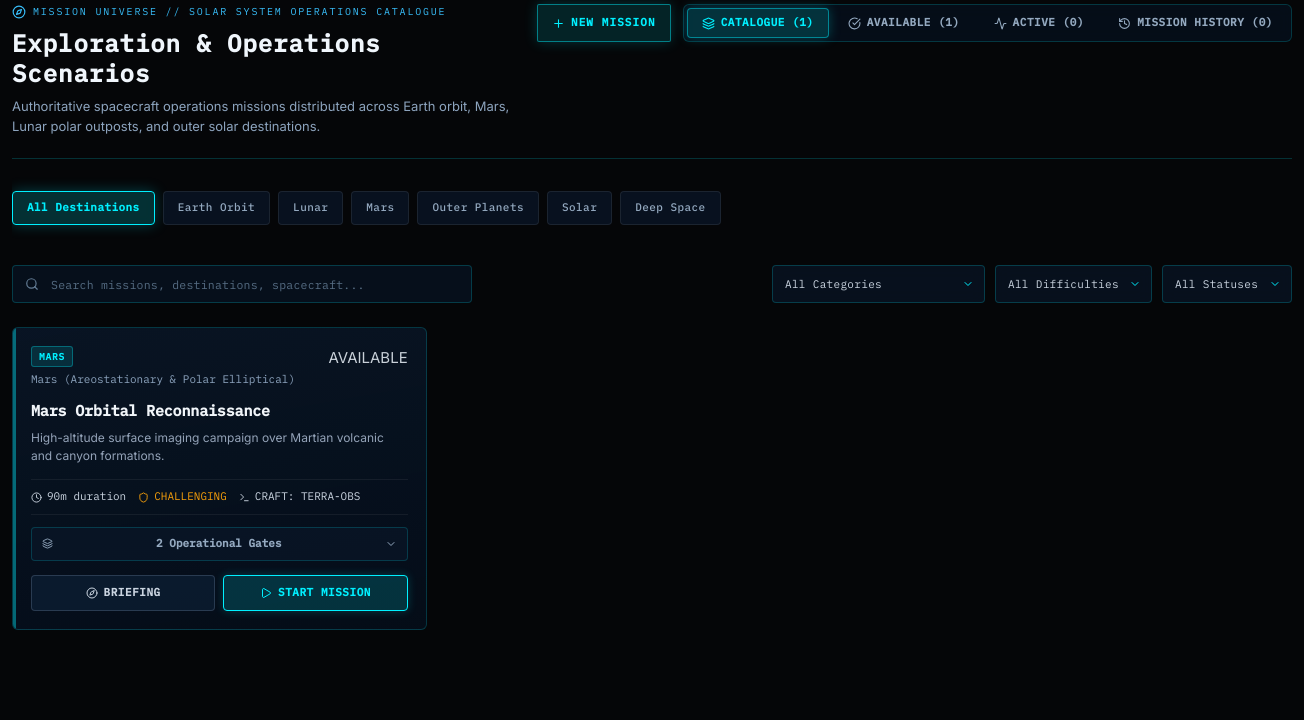
ASTRA Mission Control Operations Console › makes mission cards visibly interactive with expandable operational gates and action buttons
Check: the element with test id "mission-card-MARS-RECON-01" is shown, box top-left (12, 327), bottom-right (427, 630)
Check: the button with test id "card-briefing-btn-MARS-RECON-01" is shown, box top-left (31, 574), bottom-right (215, 610)
Click the button with test id "gates-toggle-MARS-RECON-01" at (219, 544), box top-left (31, 527), bottom-right (408, 560)
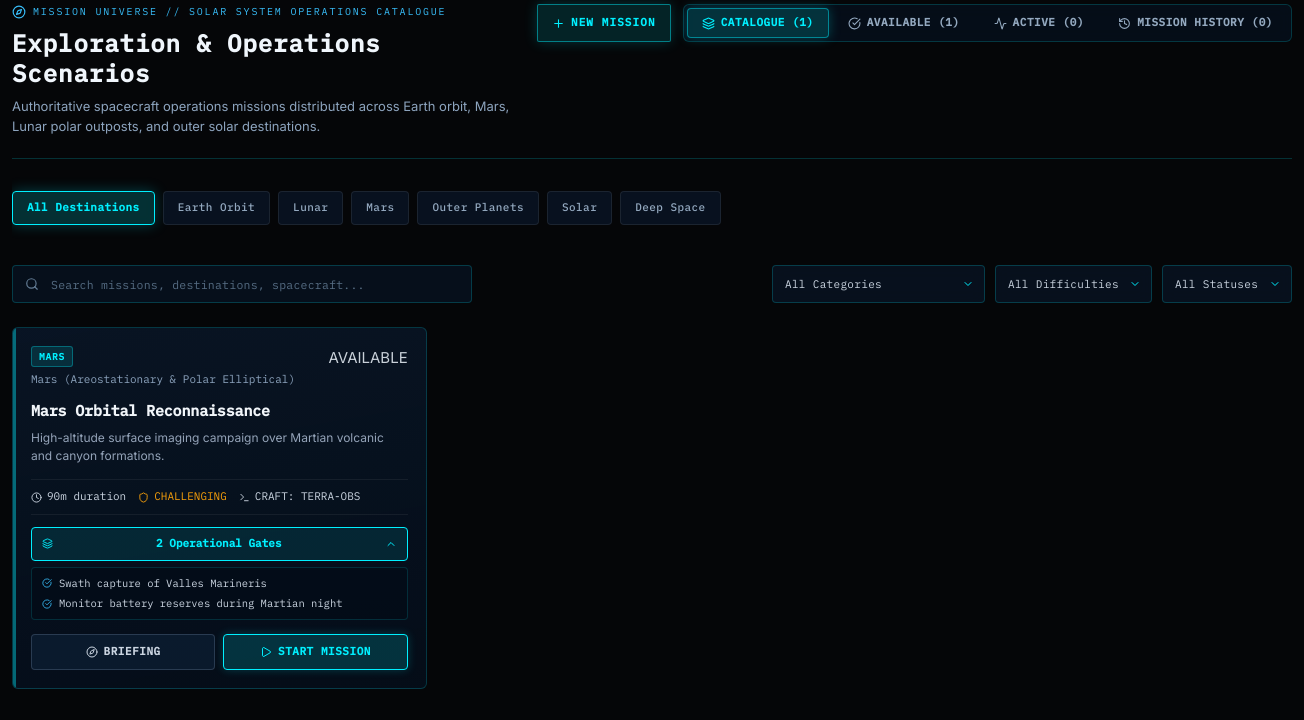
Check: the element with test id "gates-list-MARS-RECON-01" is shown, box top-left (31, 566), bottom-right (408, 620)
Check: the text "Swath capture of Valles Marineris" is shown, box top-left (59, 576), bottom-right (267, 590)
Note: Collapse gates
Click the button with test id "gates-toggle-MARS-RECON-01" at (219, 544), box top-left (31, 527), bottom-right (408, 560)
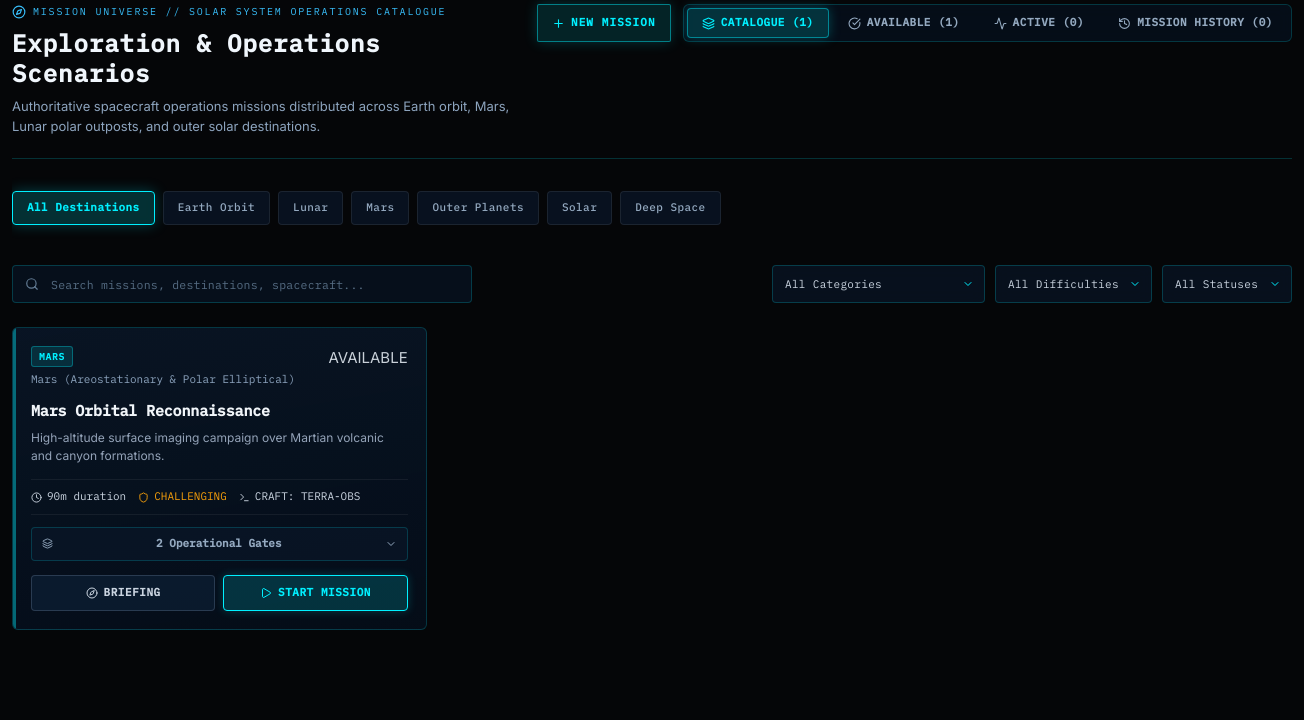
Check: the element with test id "gates-list-MARS-RECON-01" is gone
